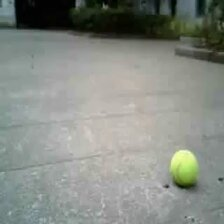tennis: (170, 151, 197, 184)
